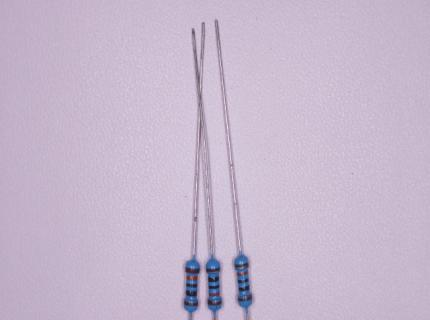Black band: (186, 290, 197, 296), (208, 276, 219, 282), (238, 278, 248, 284), (239, 285, 249, 291), (186, 283, 197, 288), (209, 285, 219, 289)
Brown band: (238, 294, 252, 302), (185, 267, 200, 274), (208, 300, 222, 306), (235, 262, 248, 268), (184, 301, 198, 306), (206, 267, 220, 272)
Orange band: (237, 270, 248, 276), (186, 276, 198, 281), (209, 292, 220, 296)
